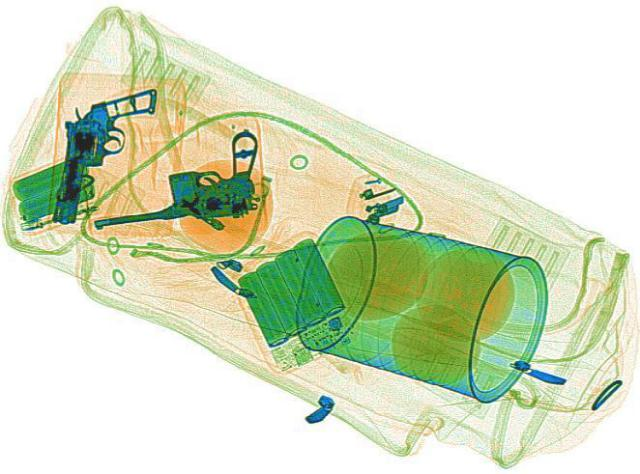Gun: (76, 129, 272, 225), (49, 84, 154, 227)
